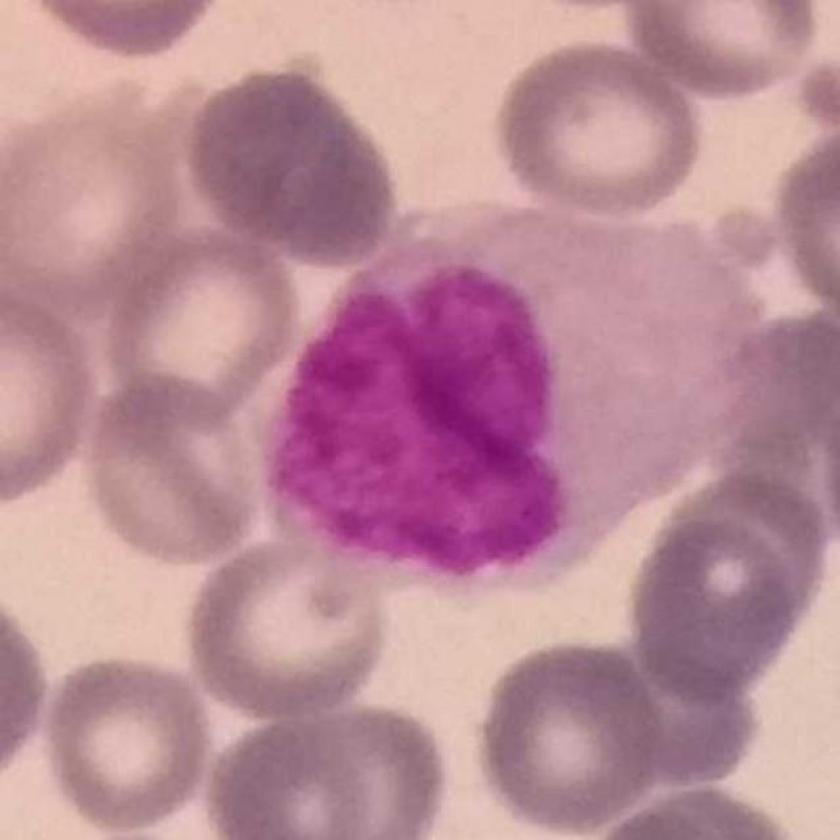monocyte: (267, 192, 769, 599)
